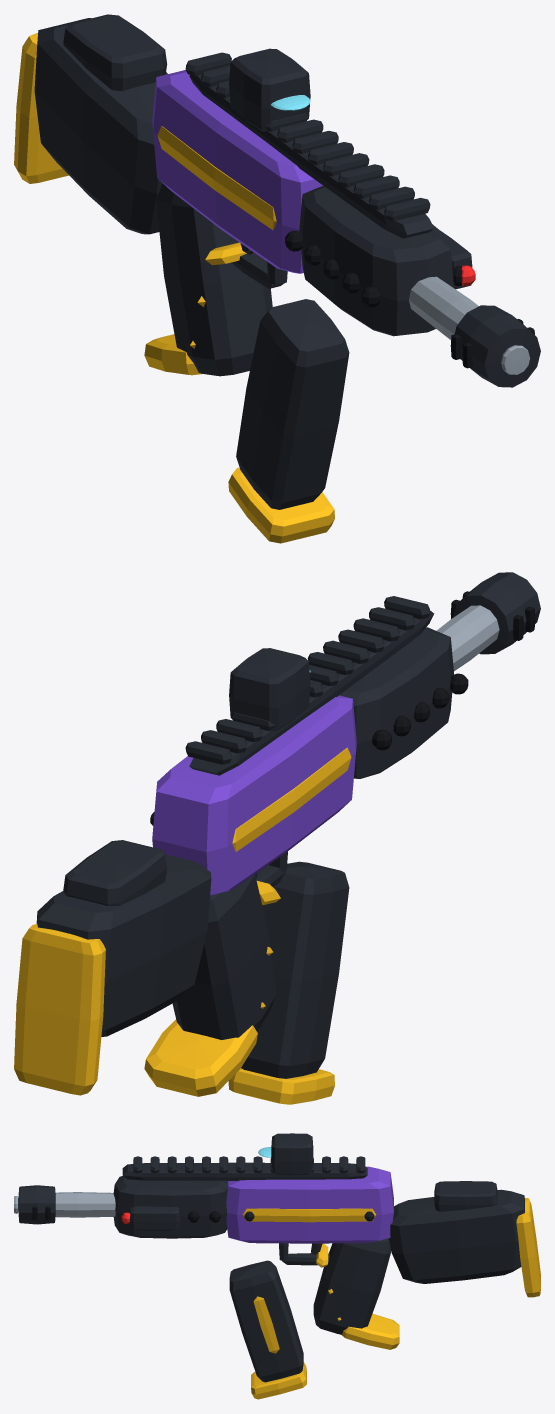
File: g-rifle-2.glb
The picture shows the model from 3 angles, top to bottom: view 1: azimuth 30°, elevation 25°; view 2: azimuth 150°, elevation 25°; view 3: azimuth 270°, elevation 25°; orthographic projection. The views are drawn at different scales.
Parts seen in each view (by area): view 1: gun; view 2: gun; view 3: gun.
Boxes of the visible parts, bbox=[...] form: gun: bbox=[14, 14, 540, 543]; gun: bbox=[14, 572, 540, 1104]; gun: bbox=[14, 1133, 540, 1399].
Size of the model in its own units: 0.1733 by 0.6514 by 1.23.
